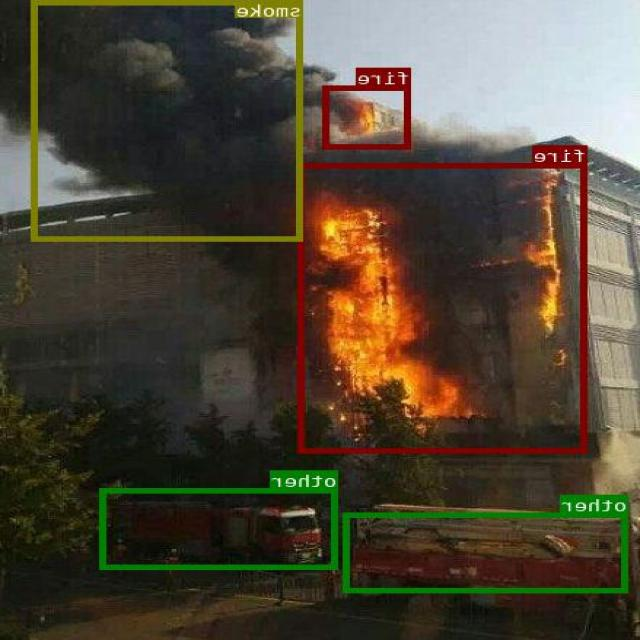fire: (299, 162, 588, 452), (324, 84, 412, 148)
other: (345, 512, 629, 592), (102, 488, 339, 569)
smoke: (33, 0, 304, 240)
